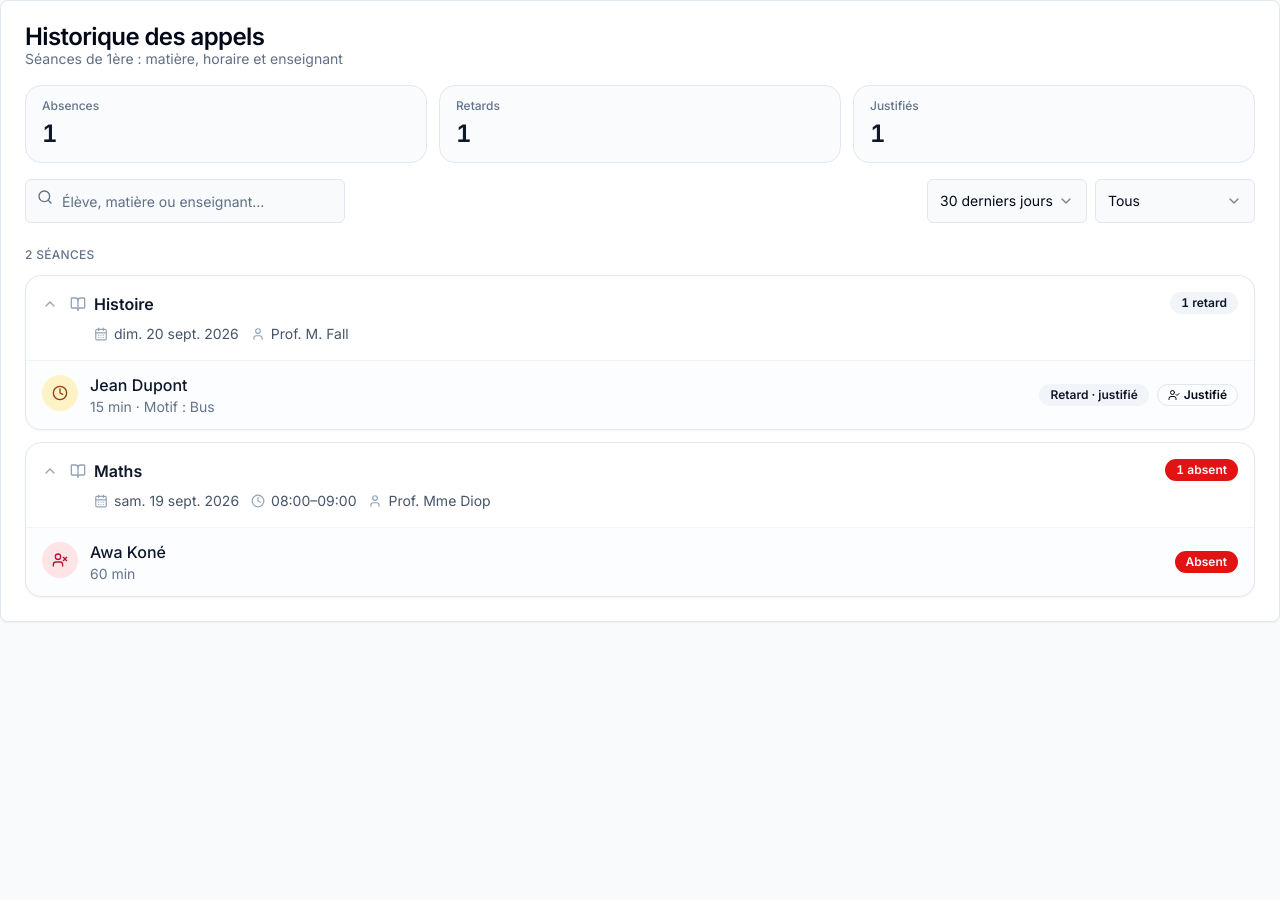
it: AttendanceHistory › affiche les absences/retards de la classe avec filtres
Expected: the text "Awa Koné" is shown, [90, 540, 166, 564]
Expected: the text "Jean Dupont" is shown, [90, 375, 188, 395]
Step 1. Type "Awa" into the field named "Rechercher un élève" → (185, 201), box [25, 179, 345, 223]
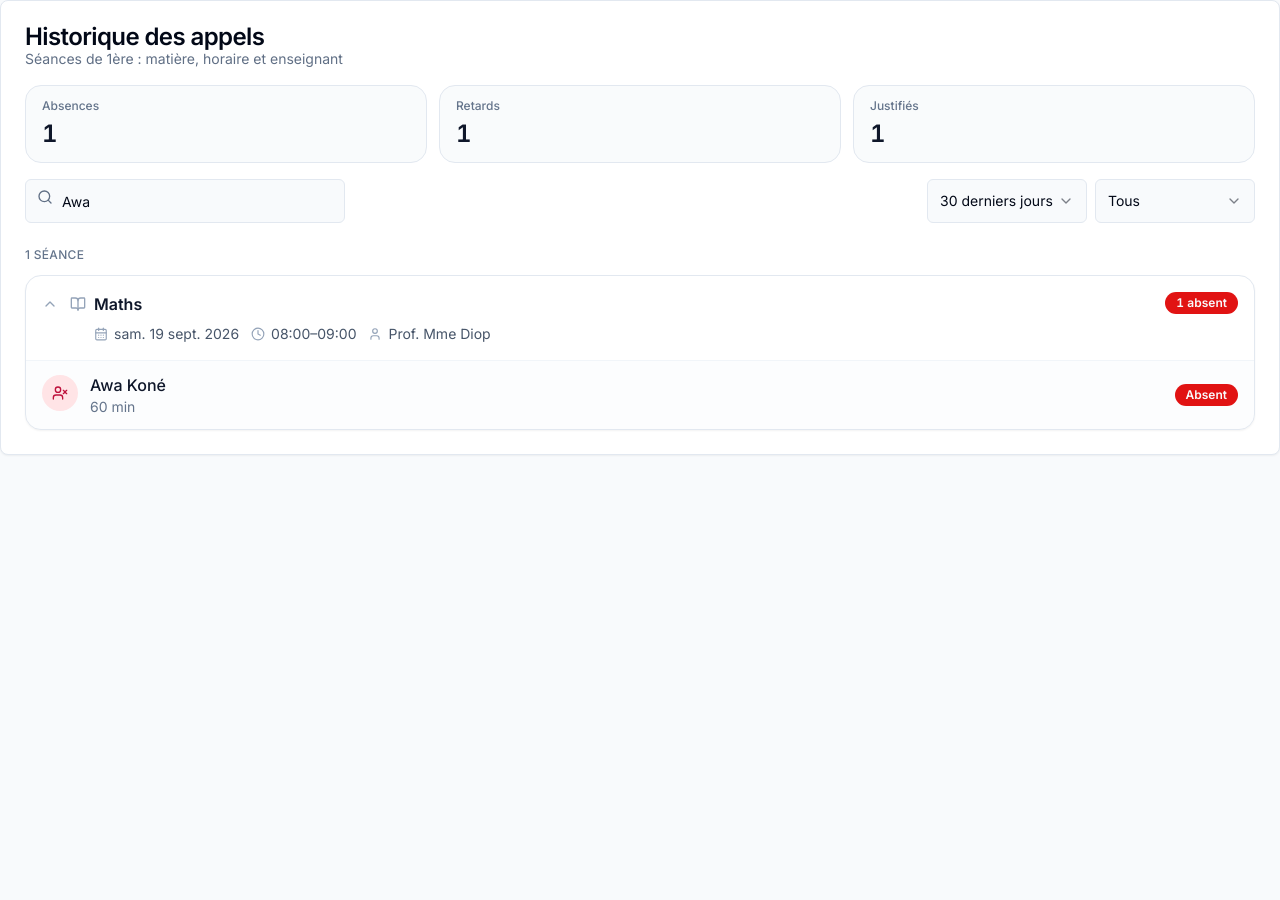
Expected: the text "Awa Koné" is shown, [90, 373, 166, 397]
Expected: the text "Jean Dupont" is gone
